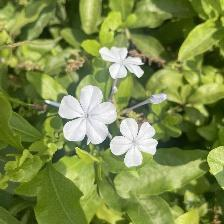chitrak: (58, 86, 121, 151), (111, 115, 160, 169), (100, 46, 145, 82)
